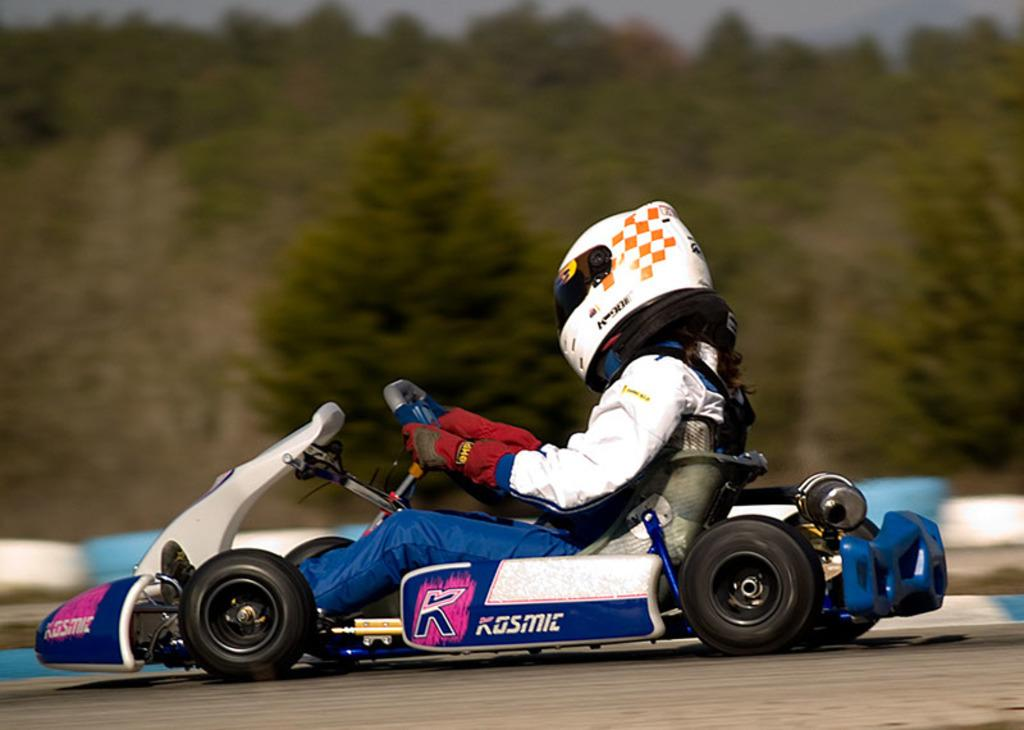helmet: (551, 199, 720, 399)
